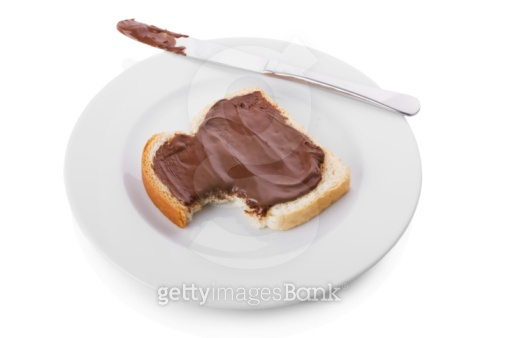slice of bread: (134, 89, 347, 236)
